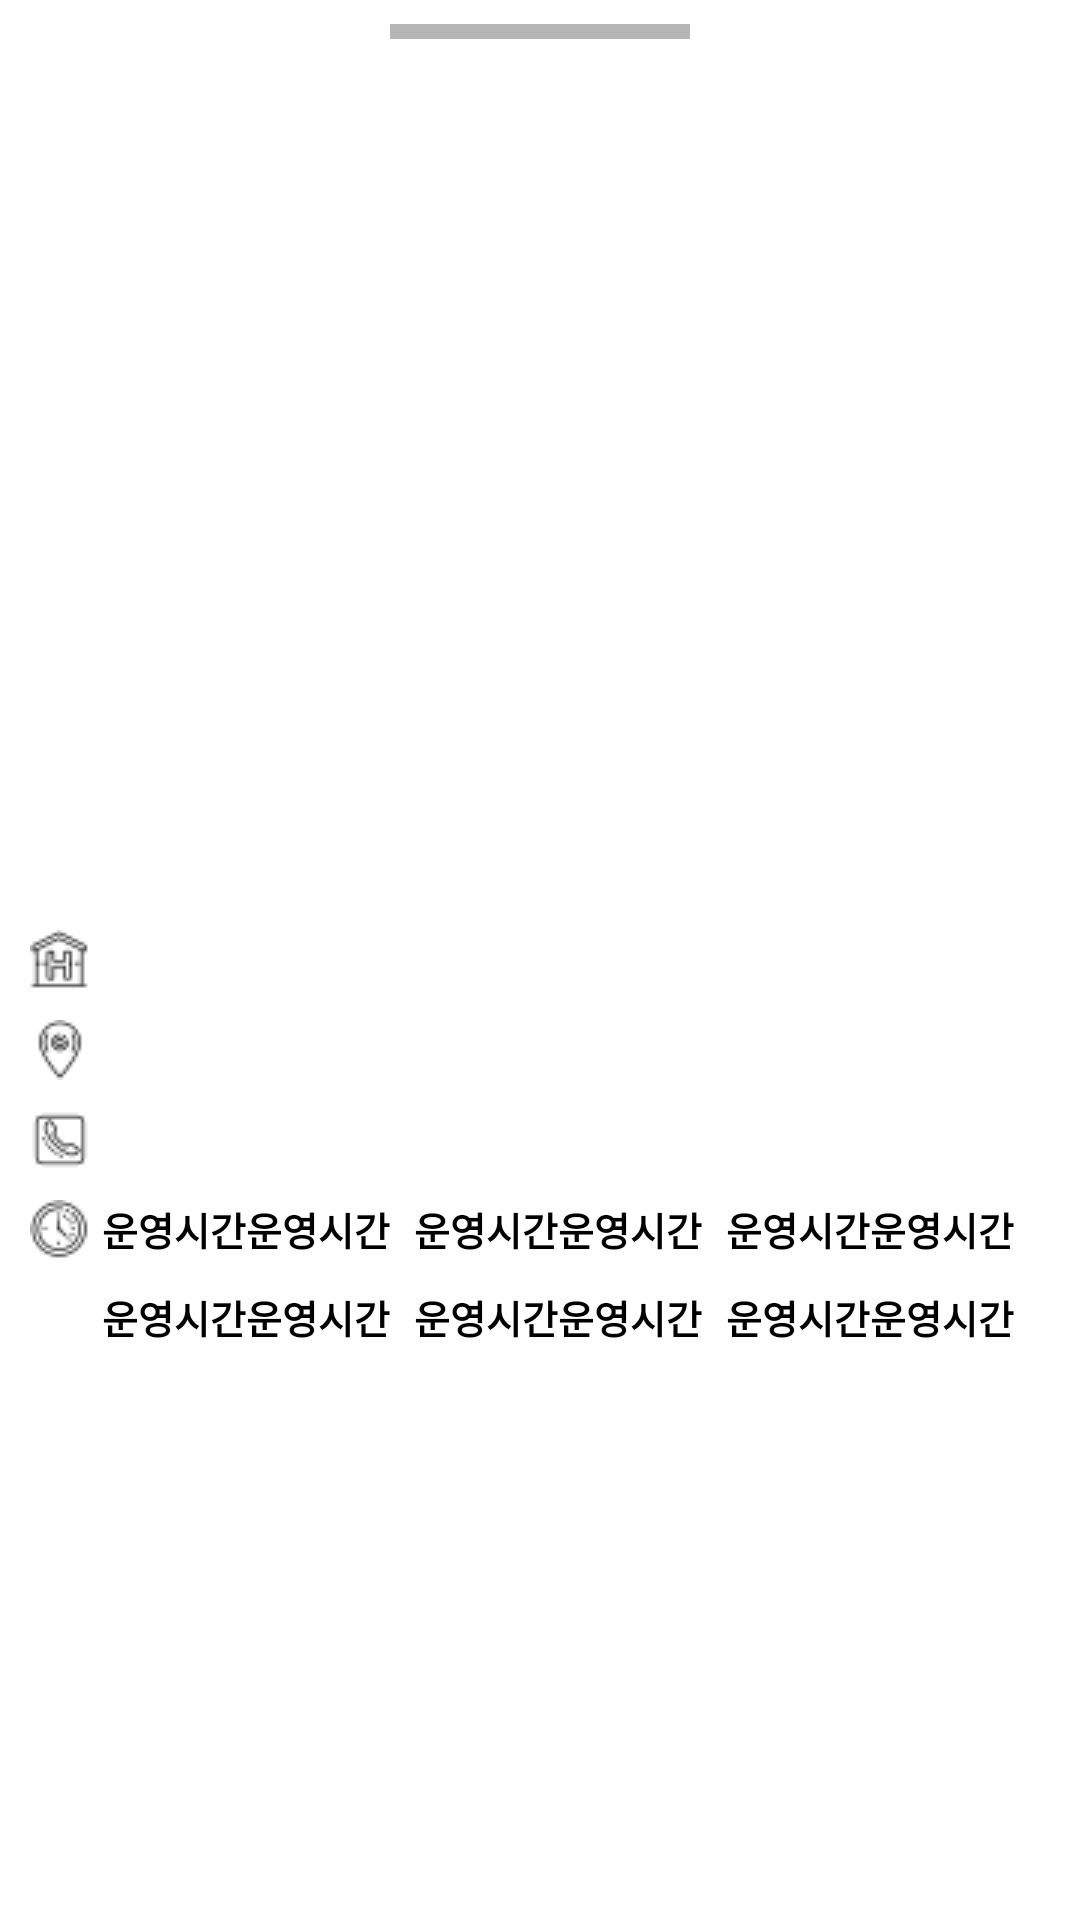

Icon click points for this 1080 x 1920 phone screenshot, format [x,y]:
clock: [59,1229]
